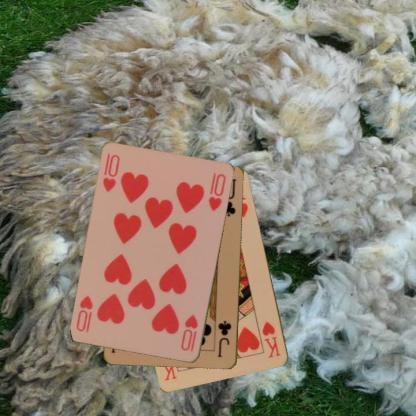10h: (100, 150, 122, 193), (178, 313, 200, 353)
Jc: (215, 318, 233, 359)
Kh: (259, 318, 282, 360)
